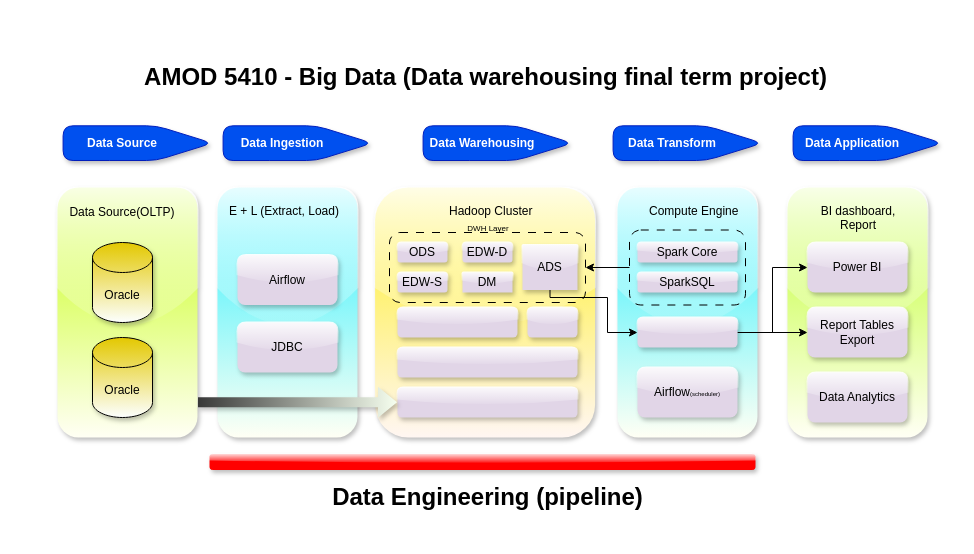
Image size: 974x554. Some labels were removed from this diagram. The shapes that lost their labels are listed below. From the top down, each one's centre as x and y in pixels, then its label:
At (x=458, y=323): "Hive (hiveserver2)".
At (x=553, y=323): "MySQL (metastore)".
At (x=688, y=333): "clickhouse (OLAP)".
At (x=488, y=363): "Hadoop Yarn (resource management)".
At (x=488, y=403): "HDFS (data storage)".
